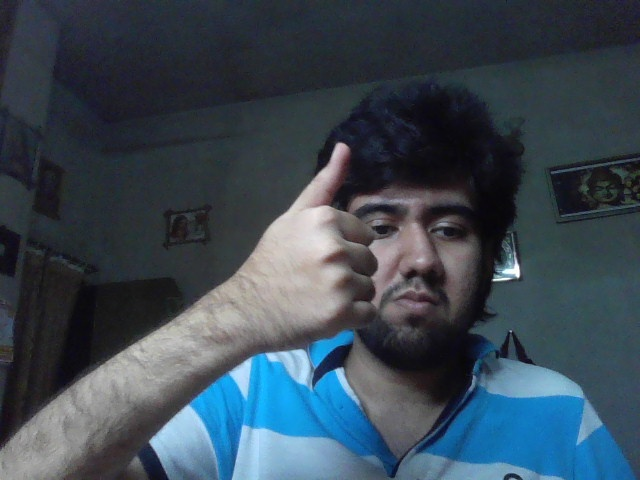Ok: (251, 142, 379, 351)
